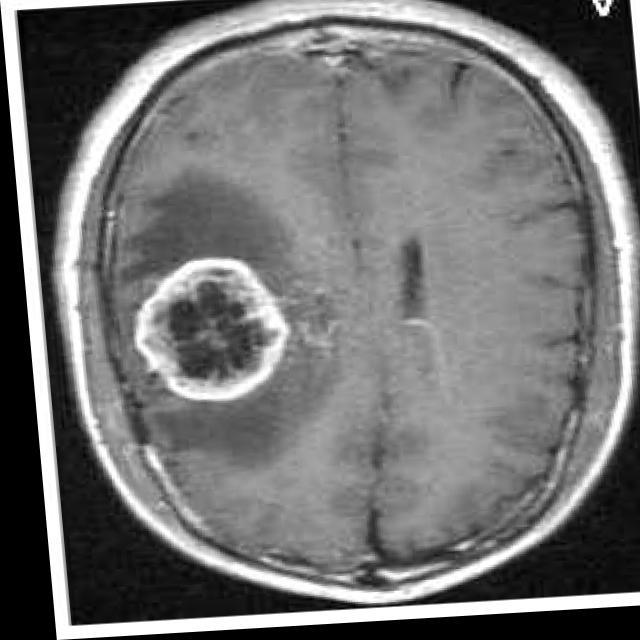Tumor: (127, 261, 277, 399)
